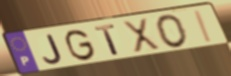G: (64, 28, 98, 63)
I: (194, 9, 215, 45)
J: (42, 33, 64, 66)
O: (155, 12, 189, 49)
T: (92, 23, 122, 58)
X: (121, 17, 163, 54)
